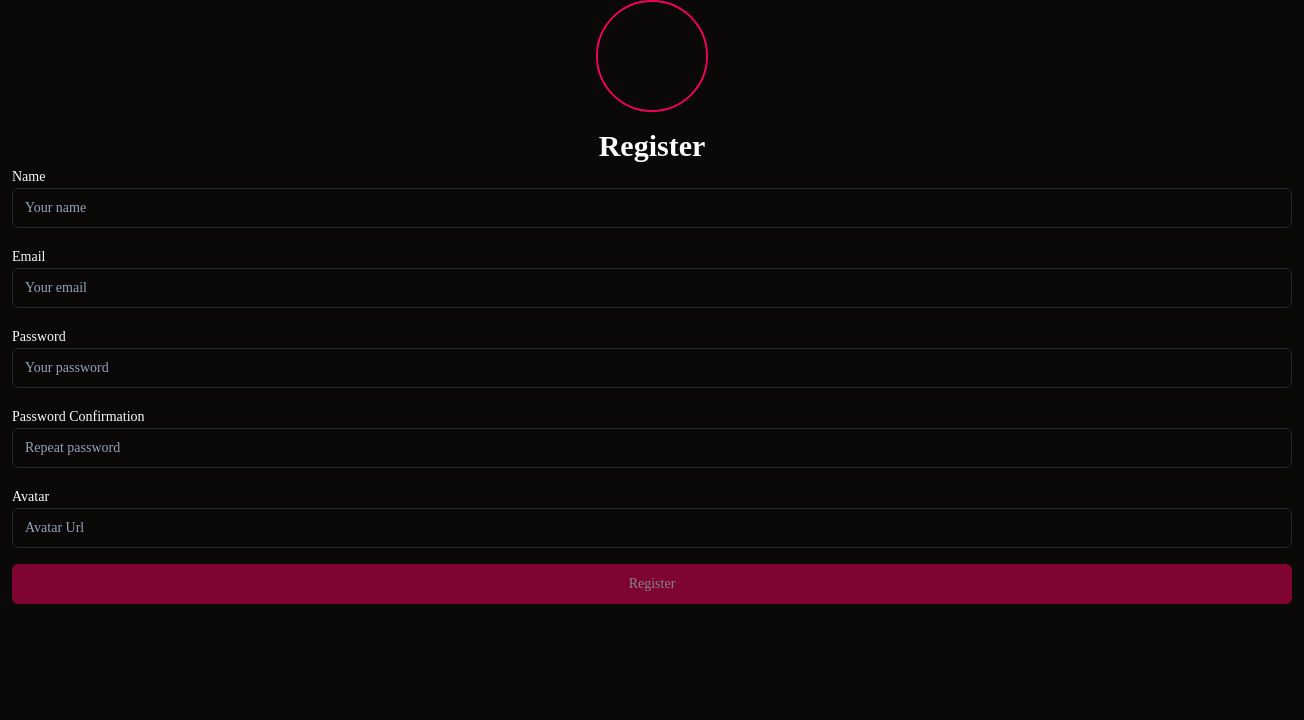
Test case: LoginForm › displays name errors
The image size is (1304, 720).
In the field with placeholder "Your name": (652, 208) [12,188,1292,228], type "Test user"
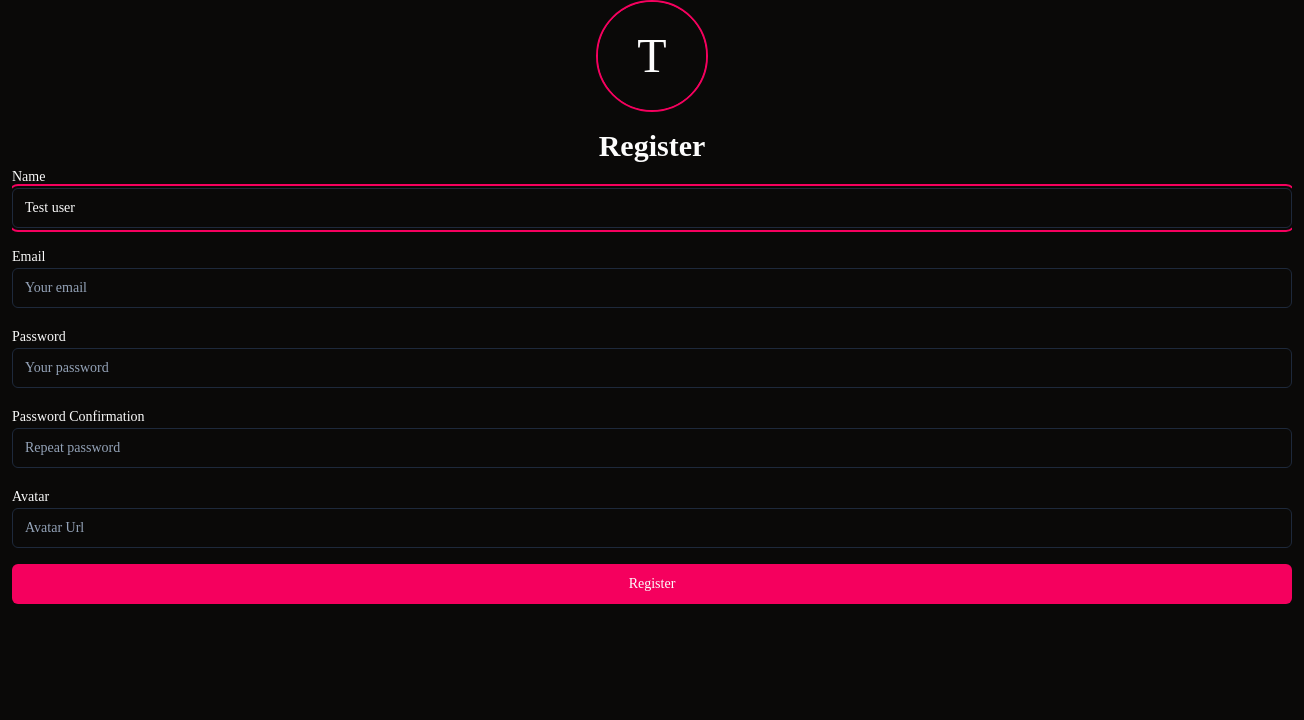
Click the button "Register": click(652, 584) [12,564,1292,604]
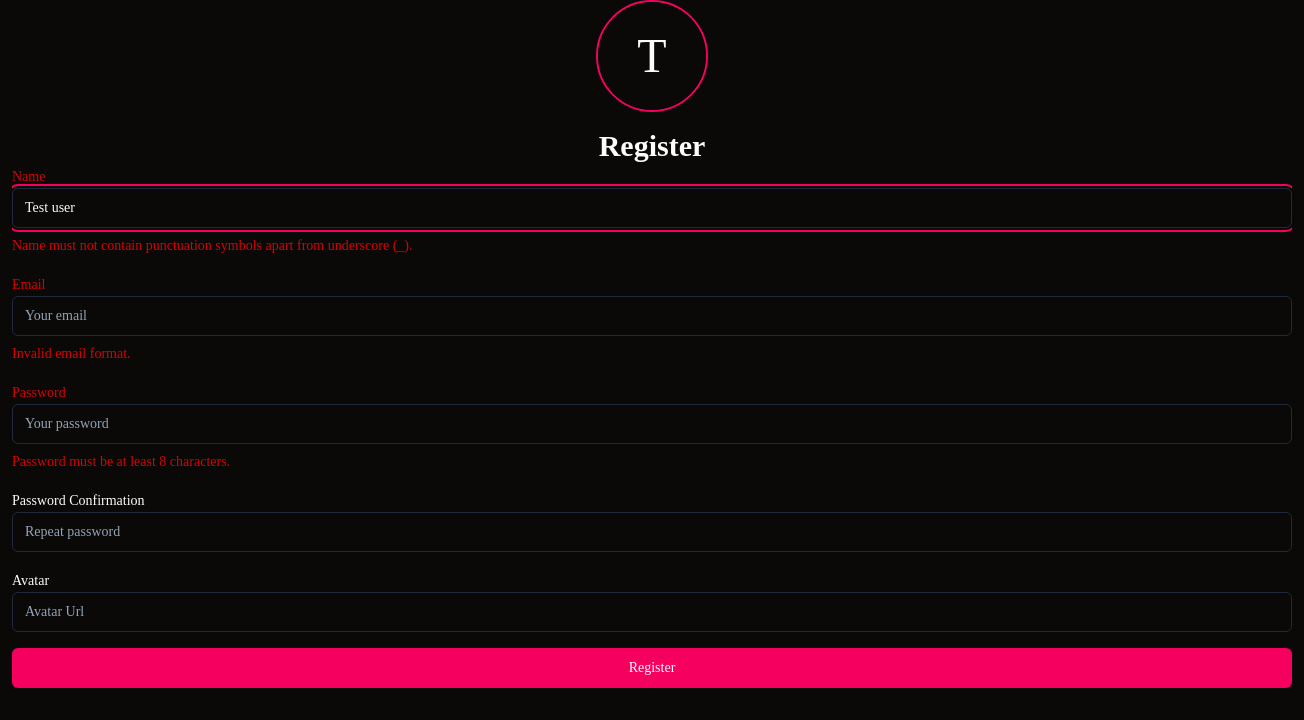
Check: the text "Name must not contain punctuation symbols apart from underscore (_)." is shown, box [12,238,412,253]
